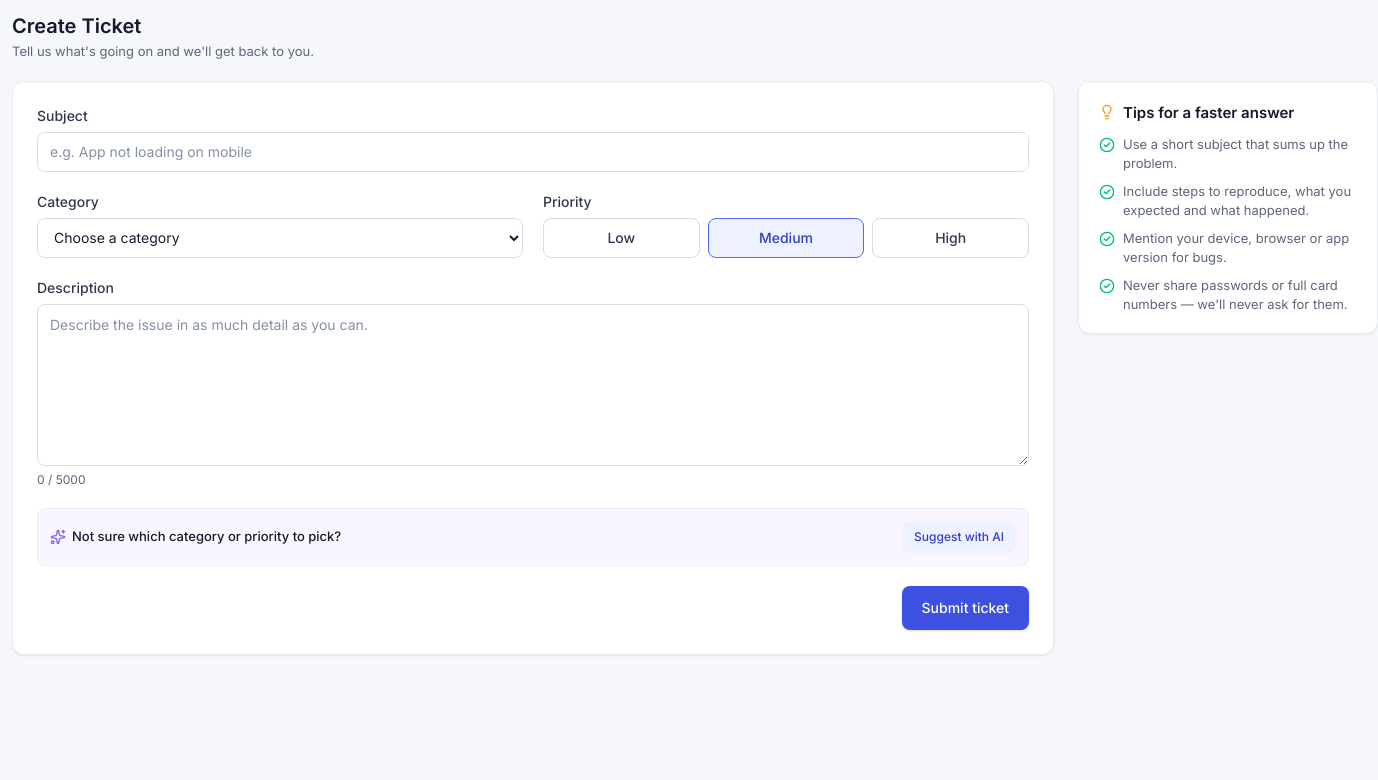
Test case: AI category/priority suggestion › suggests, and only changes the form when the customer clicks Apply
The width and height of the screenshot is (1378, 780).
Expected: the button "Suggest with AI" is disabled, [902,521,1016,553]
Type "Charged twice" into the field labelled "Subject" at (533, 152), box [37,132,1029,172]
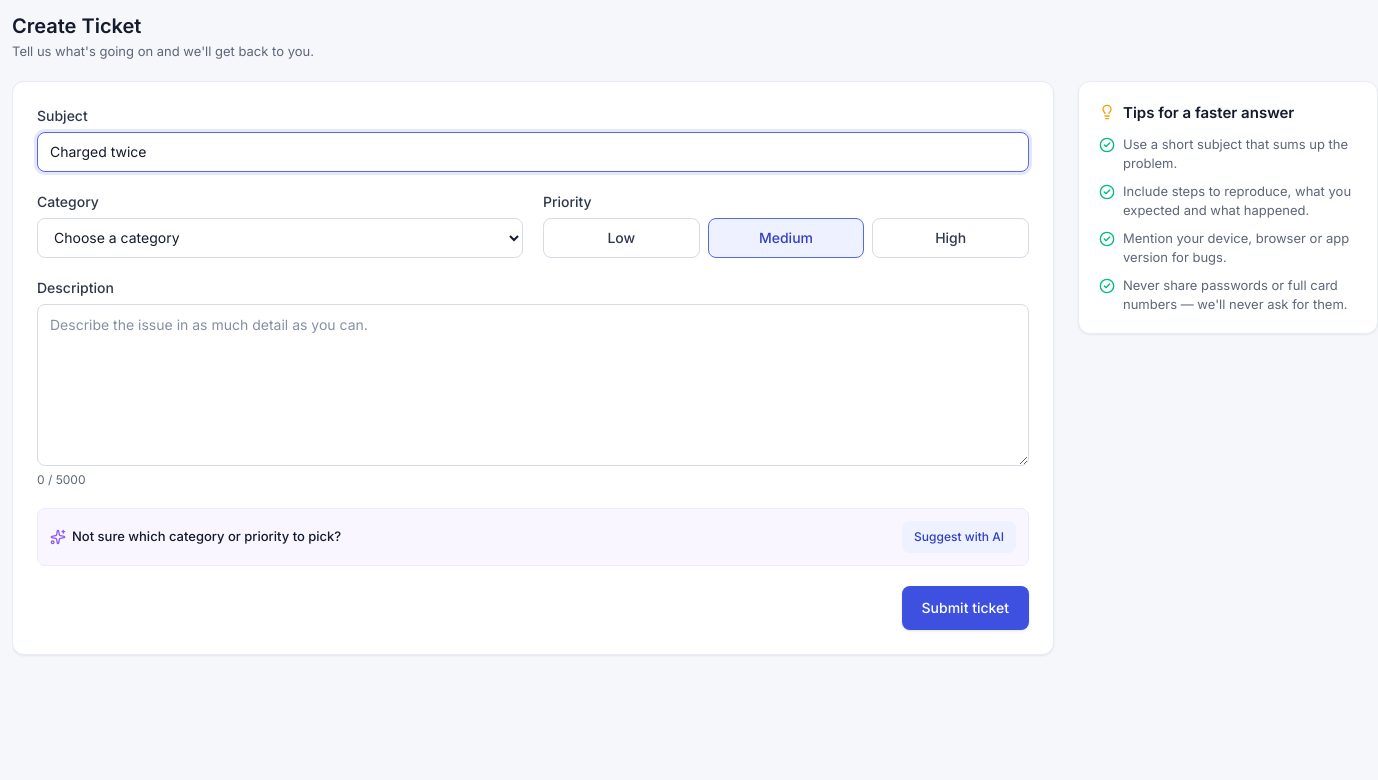
Type "Two identical charges on my card." into the text box labelled "Description" at (533, 385), box [37,304,1029,466]
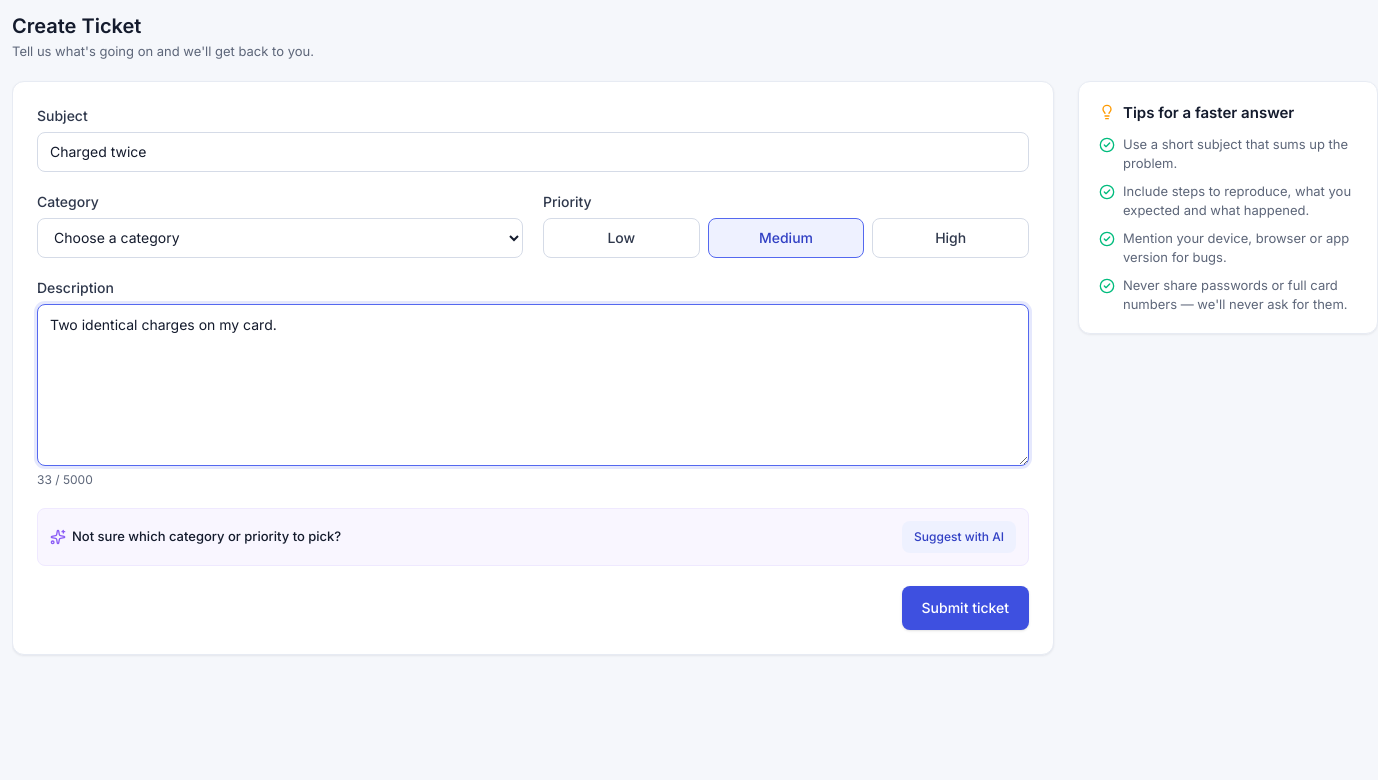
Click the button "Suggest with AI" at (959, 537), box [902,521,1016,553]
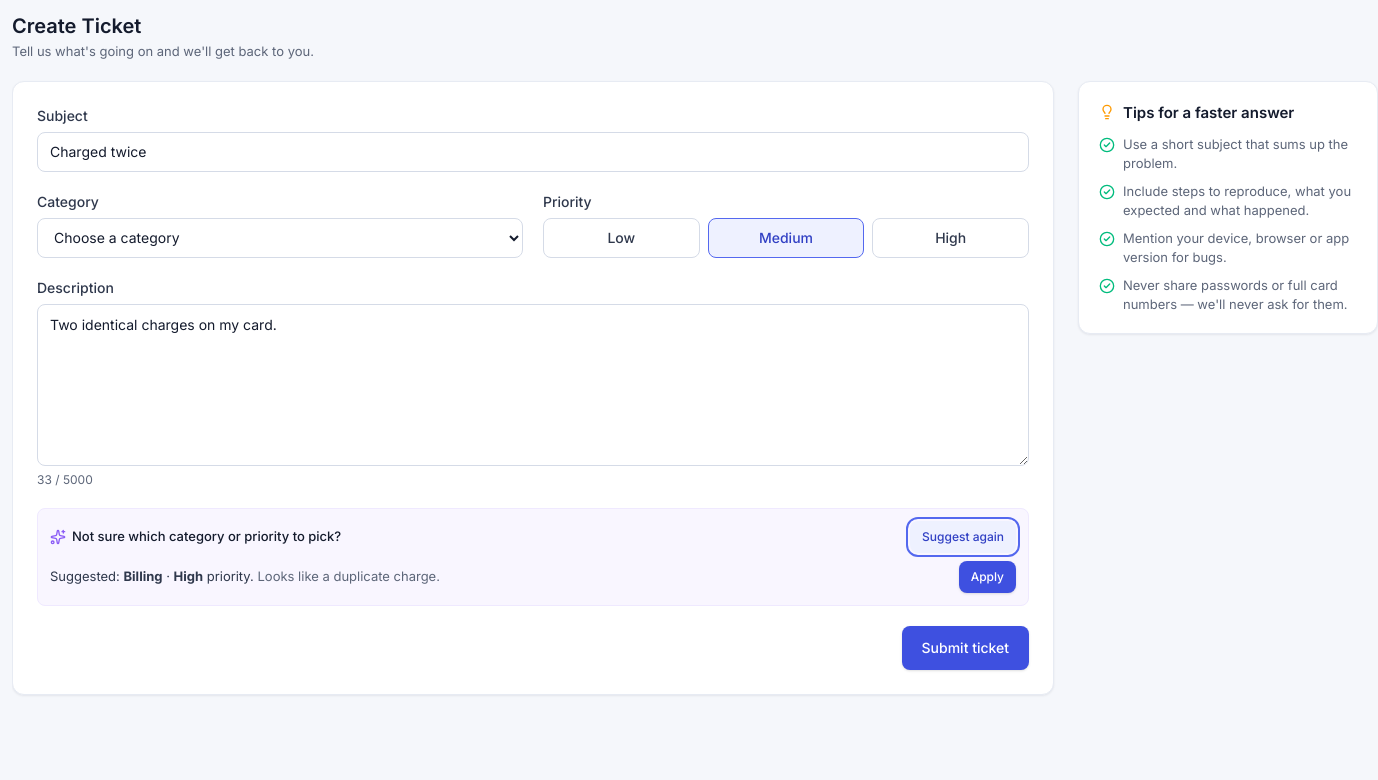
Expected: the dropdown labelled "Category" shows "Choose a category", [37,218,523,258]
Result: the text "Looks like a duplicate charge." is shown at [258,568,440,584]
Click the button "Apply" at (987, 577), box [959,561,1016,593]
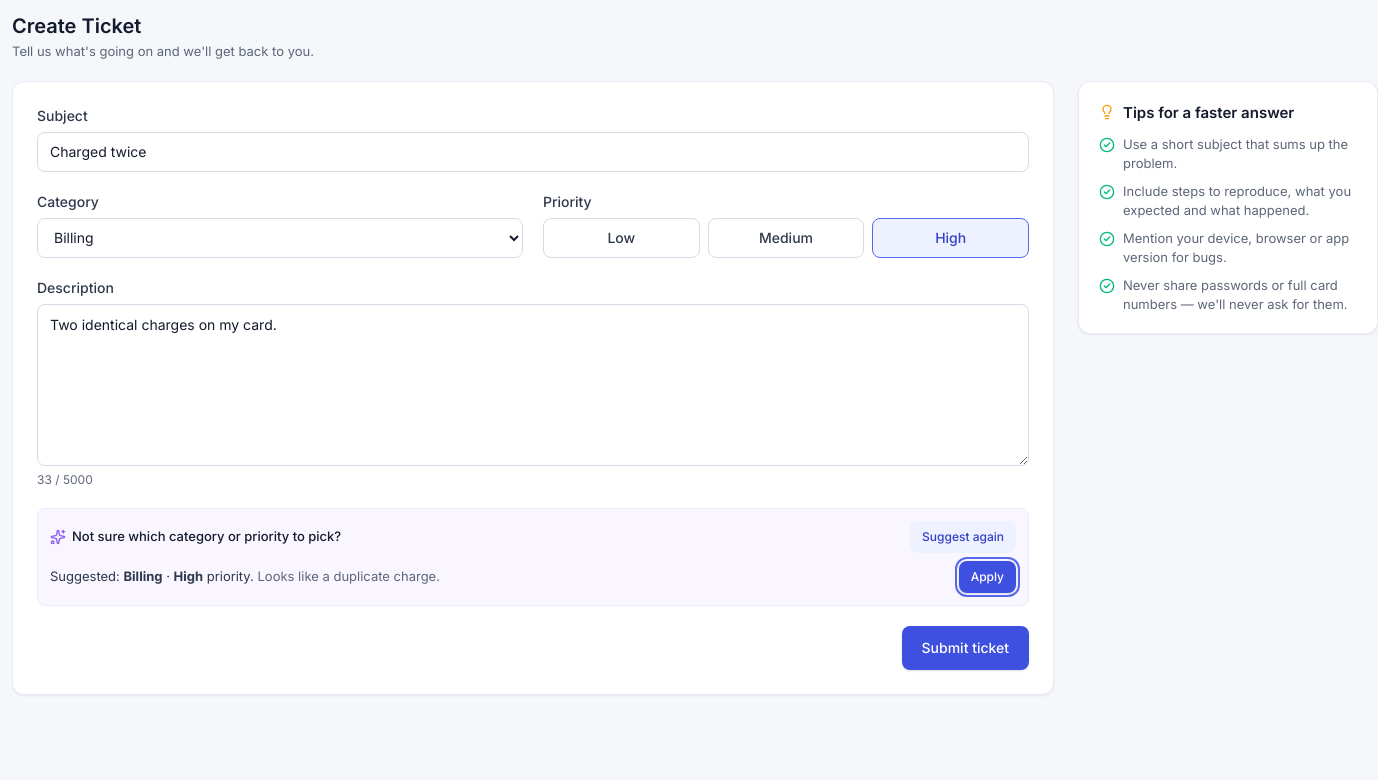
Result: the dropdown labelled "Category" shows "Billing" at [37,218,523,258]
Result: the radio button labelled "High" is checked at [872,218,1029,258]
